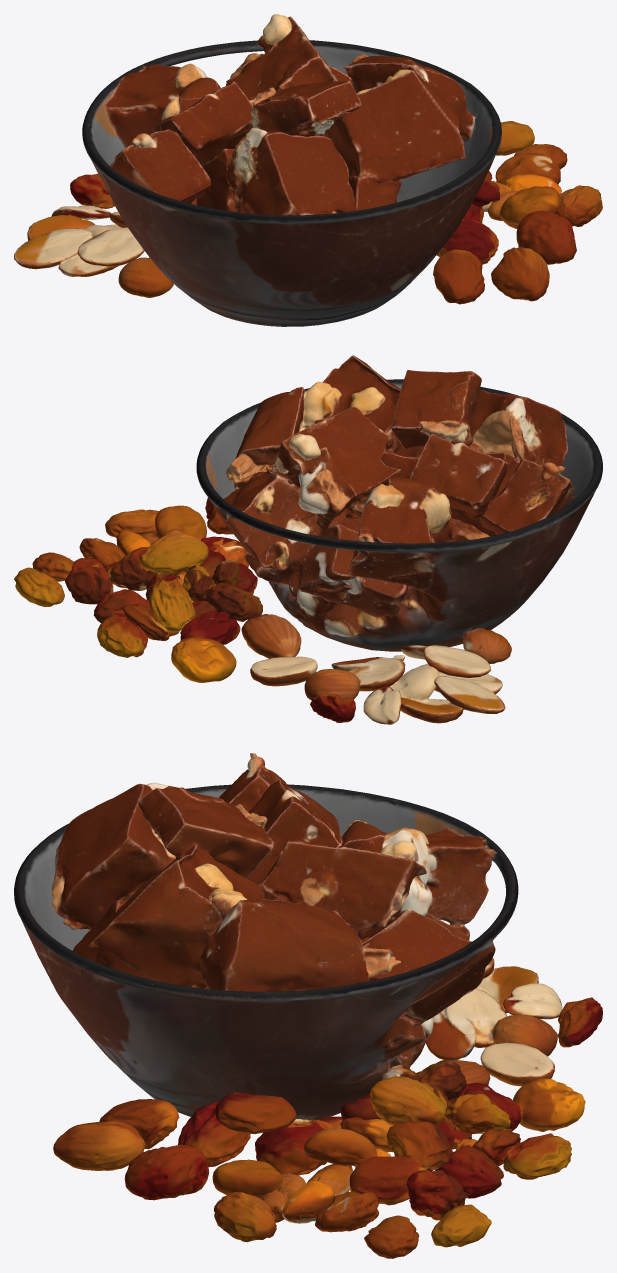
Rendered from mix_chocolate.glb.
3 renders of one model, top to bottom at view 1: azimuth 30°, elevation 25°; view 2: azimuth 150°, elevation 25°; view 3: azimuth 270°, elevation 25°, orthographic. The views are drawn at different scales.
Parts seen in each view (by area): view 1: Mesh_0.002; view 2: Mesh_0.002; view 3: Mesh_0.002.
Boxes of the visible parts, box(x1,y1,x2,y2) form: Mesh_0.002: box(14, 14, 602, 326); Mesh_0.002: box(14, 355, 602, 724); Mesh_0.002: box(14, 753, 602, 1258).
Bounding box in the file's own units: 1.9 × 0.7891 × 1.56.
1 material, 1 textured.
